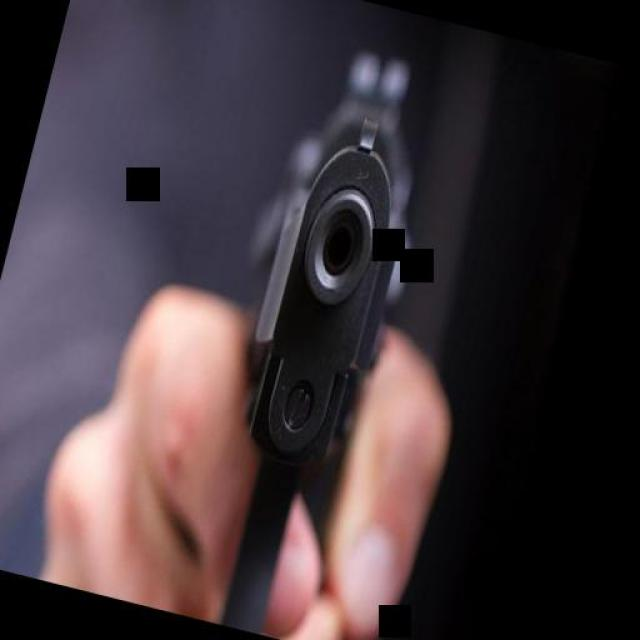gun: (166, 31, 462, 640)
